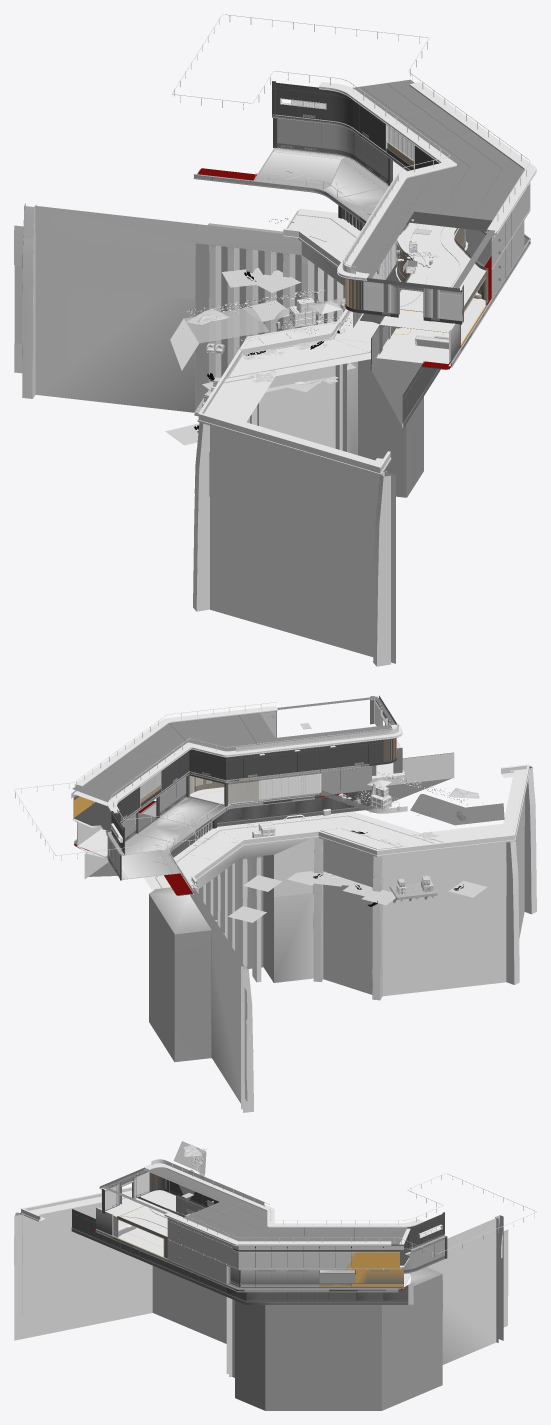
Rendered from cell_165_109.fbx.
The picture shows the model from 3 angles, top to bottom: view 1: azimuth 30°, elevation 25°; view 2: azimuth 150°, elevation 25°; view 3: azimuth 270°, elevation 25°; orthographic projection. The views are drawn at different scales.
Parts seen in each view (by area): view 1: SM_H_Building_FutureTech_Dock_03a.mo, SM_H_Building_FutureTech_Dock_06a.mo, SM_H_Building_FutureTech_Dock_03_decal.mo, SM_H_Building_FutureTech_Dock_03.mo, SM_H_Building_FutureTech_Dock_06a_InterWall_02.mo, SM_H_Building_FutureTech_Dock_06c.mo, SM_H_Building_FutureTech_Dock_06a_01.mo, SM_H_Building_FutureTech_Dock_Rail_01.mo, SM_H_Building_FutureTech_Dock_Glass_01a.mo, SM_H_Building_FutureTech_Dock_03b.mo, SM_H_Building_FutureTech_Dock_Glass_01b.mo; view 2: SM_H_Building_FutureTech_Dock_03a.mo, SM_H_Building_FutureTech_Dock_06a.mo, SM_H_Building_FutureTech_Dock_03_decal.mo, SM_H_Building_FutureTech_Dock_03.mo, SM_H_Building_FutureTech_Dock_06a_01.mo, SM_H_Building_FutureTech_Dock_06c.mo, SM_H_Building_FutureTech_Dock_06a_InterWall_02.mo, SM_H_Building_FutureTech_Dock_06a_Glass_02.mo, SM_H_Building_FutureTech_Dock_Rail_01.mo, SM_H_Building_FutureTech_Dock_Glass_01a.mo, SM_H_Building_FutureTech_Dock_06a_Glass_15.mo, SM_H_Building_FutureTech_Dock_Glass_01b.mo (+3 smaller); view 3: SM_H_Building_FutureTech_Dock_03a.mo, SM_H_Building_FutureTech_Dock_06a.mo, SM_H_Building_FutureTech_Dock_06a_01.mo, SM_H_Building_FutureTech_Dock_06a_InterWall_02.mo, SM_H_Building_FutureTech_Dock_03.mo, SM_H_Building_FutureTech_Dock_Rail_01.mo, SM_H_Building_FutureTech_Dock_03_decal.mo, SM_H_Building_FutureTech_Dock_06a_Glass_15.mo, SM_H_Building_FutureTech_Dock_Glass_01b.mo.
Part boxes in pixels (bbox=[...]): SM_H_Building_FutureTech_Dock_03a.mo: bbox=[14, 203, 423, 666]; SM_H_Building_FutureTech_Dock_06a.mo: bbox=[272, 79, 536, 369]; SM_H_Building_FutureTech_Dock_03_decal.mo: bbox=[14, 212, 395, 552]; SM_H_Building_FutureTech_Dock_03.mo: bbox=[197, 208, 391, 475]; SM_H_Building_FutureTech_Dock_06a_InterWall_02.mo: bbox=[377, 222, 488, 363]; SM_H_Building_FutureTech_Dock_06c.mo: bbox=[193, 148, 466, 323]; SM_H_Building_FutureTech_Dock_06a_01.mo: bbox=[338, 205, 491, 428]; SM_H_Building_FutureTech_Dock_Rail_01.mo: bbox=[172, 14, 530, 274]; SM_H_Building_FutureTech_Dock_Glass_01a.mo: bbox=[184, 307, 268, 343]; SM_H_Building_FutureTech_Dock_03b.mo: bbox=[242, 321, 339, 354]; SM_H_Building_FutureTech_Dock_Glass_01b.mo: bbox=[170, 318, 199, 370]; SM_H_Building_FutureTech_Dock_03a.mo: bbox=[149, 766, 536, 1112]; SM_H_Building_FutureTech_Dock_06a.mo: bbox=[71, 695, 404, 880]; SM_H_Building_FutureTech_Dock_03_decal.mo: bbox=[153, 764, 535, 1101]; SM_H_Building_FutureTech_Dock_03.mo: bbox=[144, 764, 530, 889]; SM_H_Building_FutureTech_Dock_06a_01.mo: bbox=[84, 752, 454, 878]; SM_H_Building_FutureTech_Dock_06c.mo: bbox=[105, 793, 348, 895]; SM_H_Building_FutureTech_Dock_06a_InterWall_02.mo: bbox=[189, 740, 404, 805]; SM_H_Building_FutureTech_Dock_06a_Glass_02.mo: bbox=[228, 774, 320, 804]; SM_H_Building_FutureTech_Dock_Rail_01.mo: bbox=[14, 702, 397, 876]; SM_H_Building_FutureTech_Dock_Glass_01a.mo: bbox=[410, 794, 464, 825]; SM_H_Building_FutureTech_Dock_06a_Glass_15.mo: bbox=[236, 724, 398, 751]; SM_H_Building_FutureTech_Dock_Glass_01b.mo: bbox=[455, 803, 504, 825]; SM_H_Building_FutureTech_Dock_03a.mo: bbox=[14, 1197, 508, 1410]; SM_H_Building_FutureTech_Dock_06a.mo: bbox=[93, 1163, 447, 1292]; SM_H_Building_FutureTech_Dock_06a_01.mo: bbox=[71, 1209, 413, 1304]; SM_H_Building_FutureTech_Dock_06a_InterWall_02.mo: bbox=[101, 1195, 185, 1258]; SM_H_Building_FutureTech_Dock_03.mo: bbox=[20, 1187, 177, 1221]; SM_H_Building_FutureTech_Dock_Rail_01.mo: bbox=[152, 1159, 536, 1256]; SM_H_Building_FutureTech_Dock_03_decal.mo: bbox=[14, 1187, 508, 1335]; SM_H_Building_FutureTech_Dock_06a_Glass_15.mo: bbox=[151, 1159, 263, 1205]; SM_H_Building_FutureTech_Dock_Glass_01b.mo: bbox=[173, 1141, 206, 1171].
Bounding box in the file's own units: 66.75 × 42.93 × 101.
